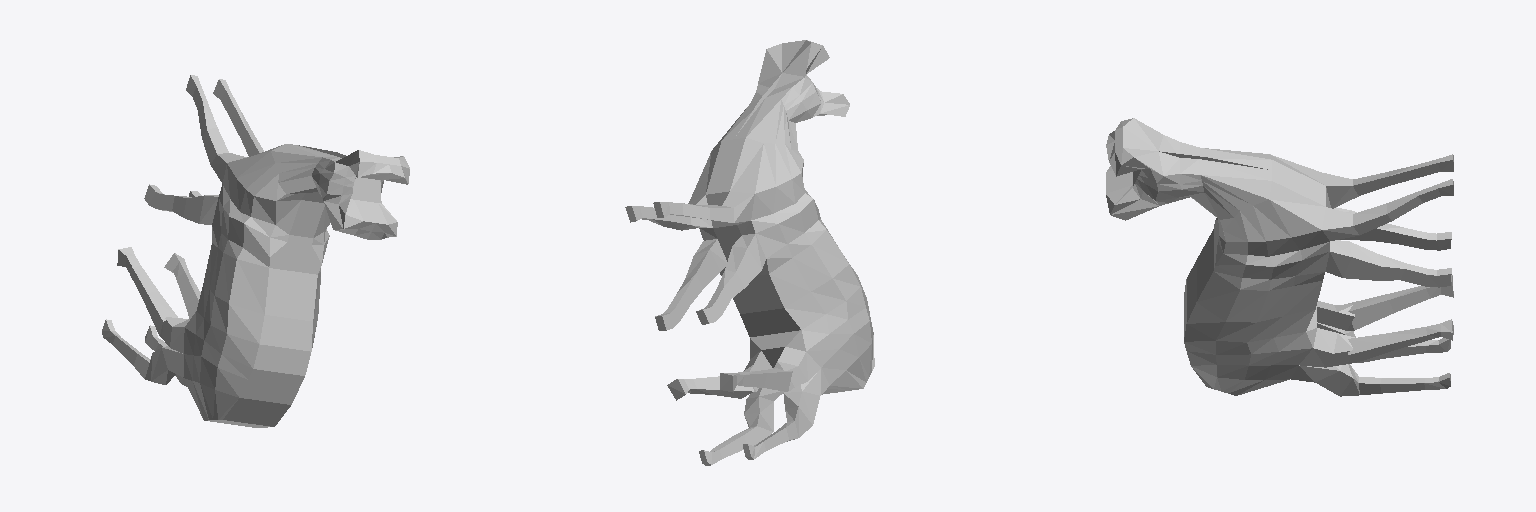
The model's file is Deer_None.002.obj.
3 views of the same model, side by side, from view 1: azimuth 30°, elevation 25°; view 2: azimuth 150°, elevation 25°; view 3: azimuth 270°, elevation 25° (orthographic).
Visible parts, largest first — view 1: Deer; view 2: Deer; view 3: Deer.
Boxes of the visible parts, x1=… form: Deer: x1=102, y1=75, x2=409, y2=427; Deer: x1=625, y1=40, x2=874, y2=465; Deer: x1=1106, y1=118, x2=1453, y2=396.
Size of the model in its own units: 2.22 by 4.31 by 4.46.